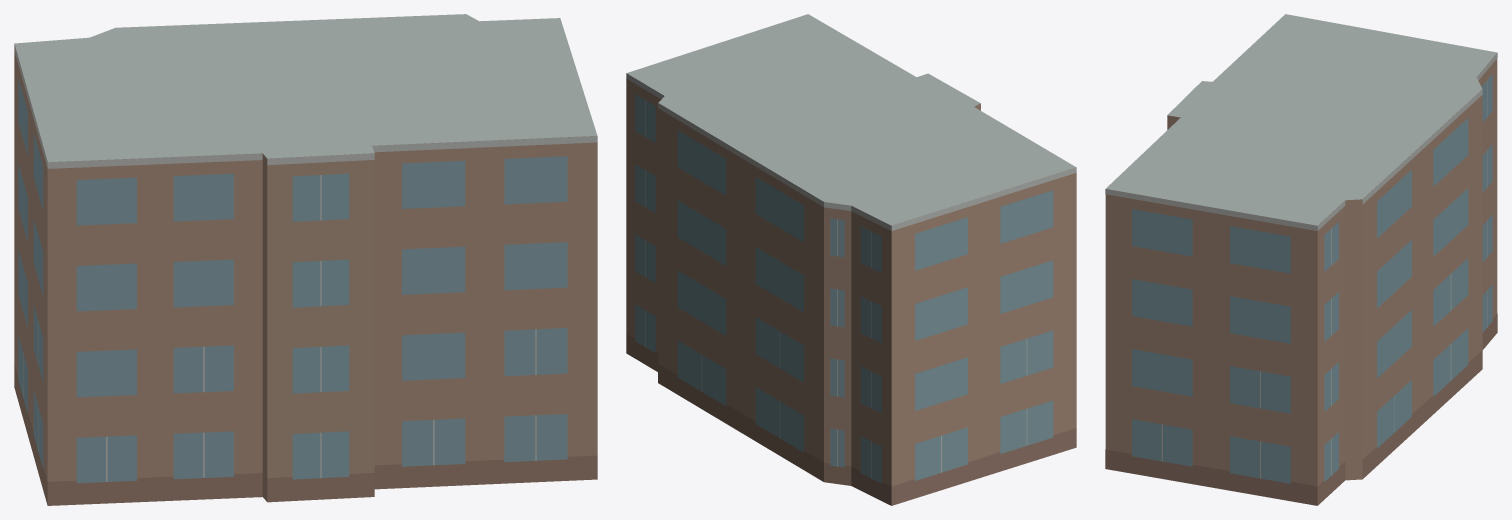
File: survey-upis-32740503.glb
The picture shows the model from 3 angles, left to right: view 1: azimuth 30°, elevation 25°; view 2: azimuth 150°, elevation 25°; view 3: azimuth 270°, elevation 25°; orthographic projection. The views are drawn at different scales.
Visible parts, largest first — view 1: survey-upis-32740503.tmp; view 2: survey-upis-32740503.tmp; view 3: survey-upis-32740503.tmp.
Part boxes in pixels (box(x1,y1,x2,y2)): survey-upis-32740503.tmp: box(14, 14, 597, 505); survey-upis-32740503.tmp: box(626, 14, 1076, 505); survey-upis-32740503.tmp: box(1105, 14, 1497, 505).
Bounding box in the file's own units: 20.43 × 12.6 × 15.99.
